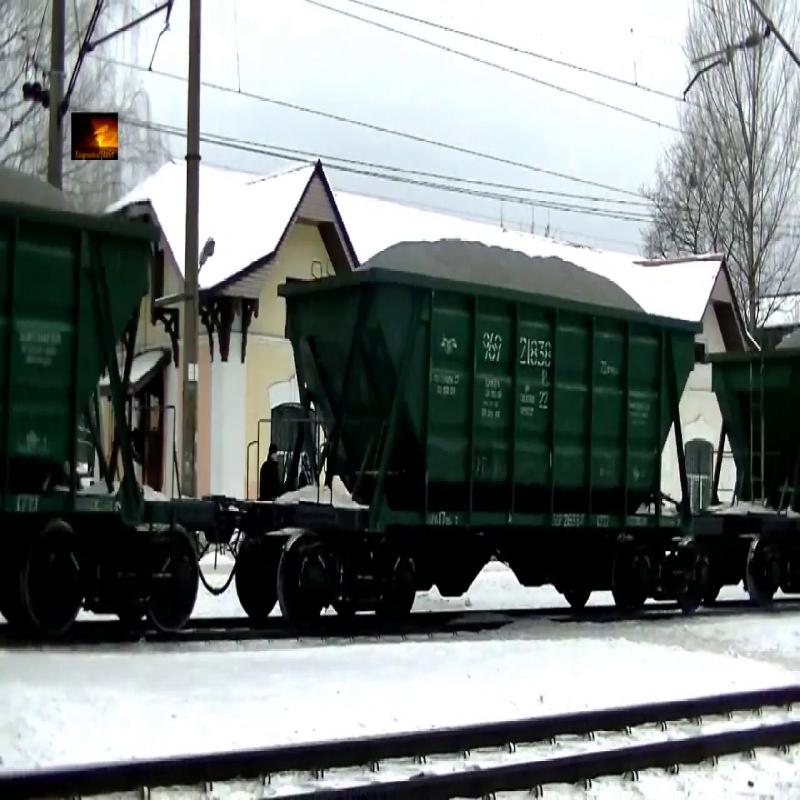train: (298, 234, 707, 638), (1, 157, 193, 616)
